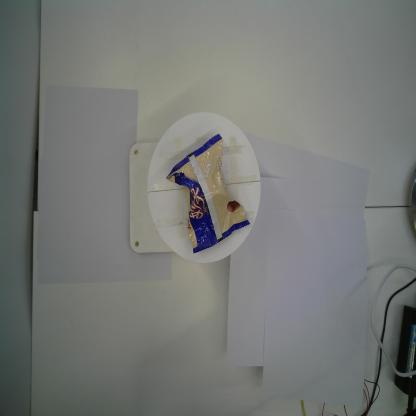Dessert: (162, 131, 252, 255)
